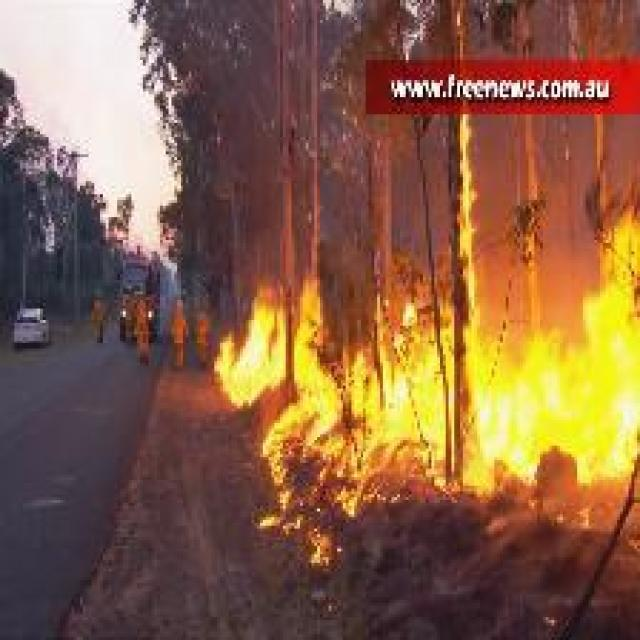Fire: (212, 114, 640, 560)
